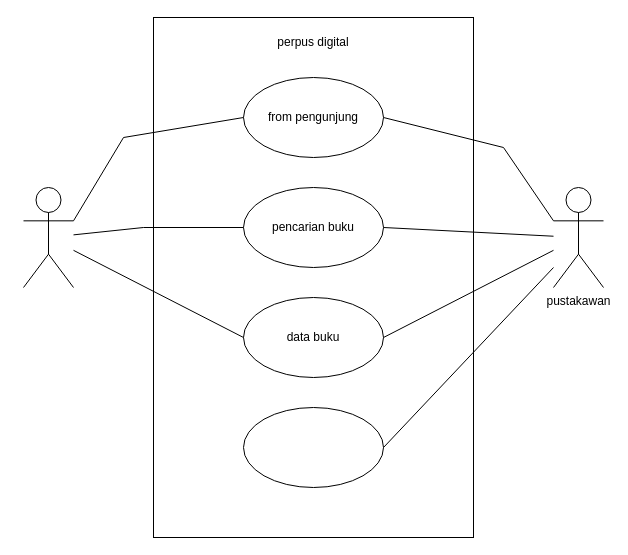
Some shapes in this 628 by 555 pixel diagram are drawn without their labels. Here are the shapes that lost their labels. From the top down, the box of each, then its label:
(22, 186, 74, 288): pengunjung
(242, 406, 384, 488): laporan sttatistik
